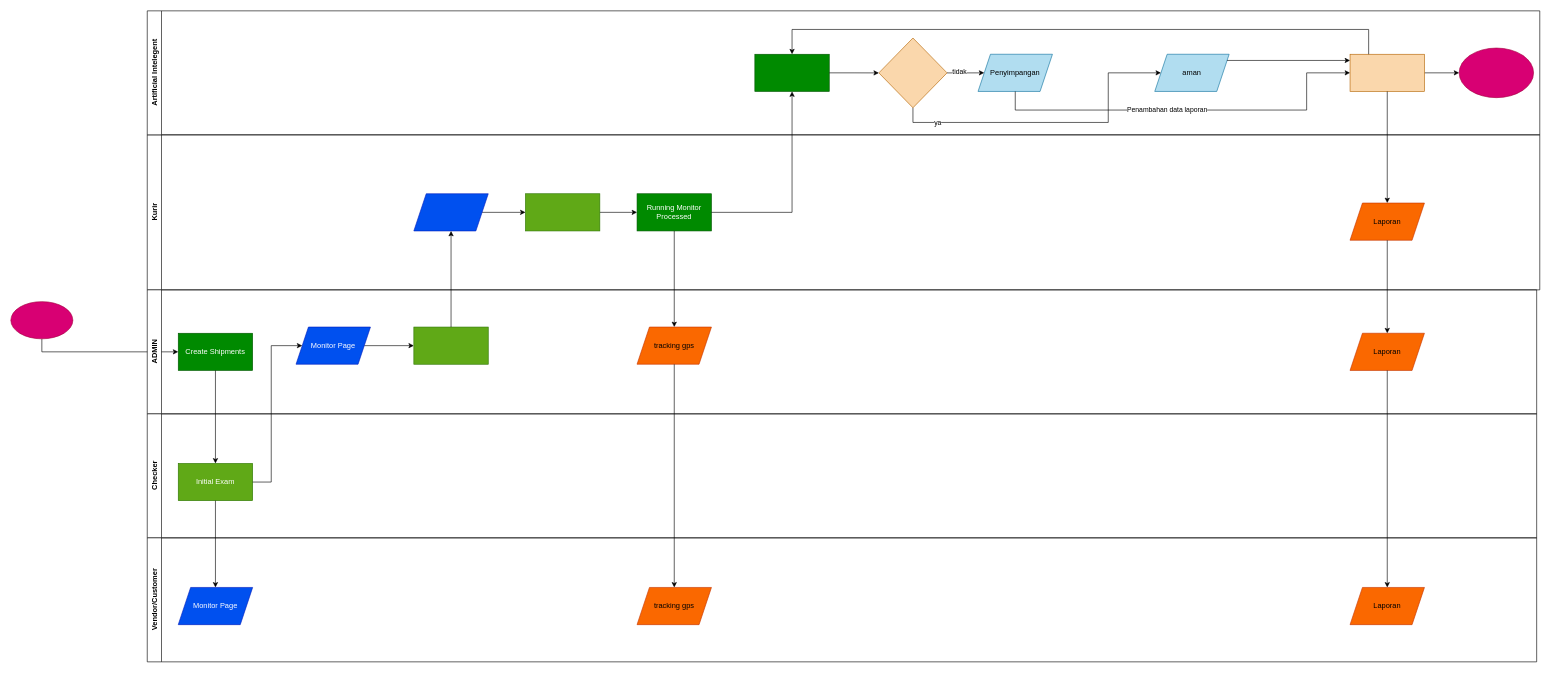
Some shapes in this 1551 by 673 pixel diagram are drawn without their labels. The centre of each missing label's shape, as x and y in pixels:
"AUTOMATION AI" belongs at point 791,72.
"Changing status" belongs at point 562,212.
"Condition ?" belongs at point 912,72.
"Pemilihan Kurir" belongs at point 450,345.
"Reportment" belongs at point 1386,72.
"Selesai" belongs at point 1496,72.
"Start" belongs at point 41,320.
"terpilih" belongs at point 450,212.
